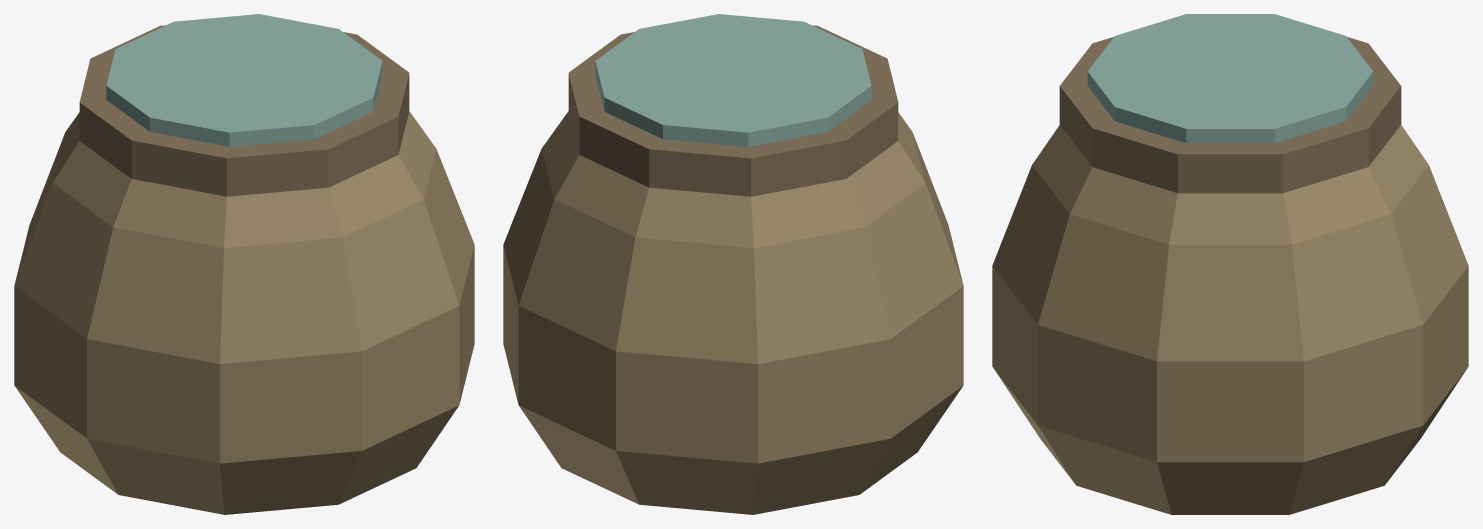
The model's file is ce_ammo_gae_sling_plasteel_c.obj.
3 views of the same model, side by side, from view 1: azimuth 30°, elevation 25°; view 2: azimuth 150°, elevation 25°; view 3: azimuth 270°, elevation 25° (orthographic).
Parts seen in each view (by area): view 1: ce_ammo_gae_sling_plasteel_c_0, ce_ammo_gae_sling_plasteel_c_2, ce_ammo_gae_sling_plasteel_c_1; view 2: ce_ammo_gae_sling_plasteel_c_0, ce_ammo_gae_sling_plasteel_c_2, ce_ammo_gae_sling_plasteel_c_1; view 3: ce_ammo_gae_sling_plasteel_c_0, ce_ammo_gae_sling_plasteel_c_2, ce_ammo_gae_sling_plasteel_c_1.
Boxes of the visible parts, left/top/right/bottom form: ce_ammo_gae_sling_plasteel_c_0: left=14, top=111, right=474, bottom=514; ce_ammo_gae_sling_plasteel_c_2: left=106, top=14, right=382, bottom=146; ce_ammo_gae_sling_plasteel_c_1: left=79, top=25, right=409, bottom=196; ce_ammo_gae_sling_plasteel_c_0: left=503, top=111, right=963, bottom=514; ce_ammo_gae_sling_plasteel_c_2: left=595, top=14, right=871, bottom=146; ce_ammo_gae_sling_plasteel_c_1: left=568, top=25, right=898, bottom=196; ce_ammo_gae_sling_plasteel_c_0: left=992, top=125, right=1468, bottom=514; ce_ammo_gae_sling_plasteel_c_2: left=1087, top=14, right=1373, bottom=143; ce_ammo_gae_sling_plasteel_c_1: left=1059, top=37, right=1401, bottom=193.
Bounding box in the file's own units: 0.5706 × 0.51 × 0.6.
